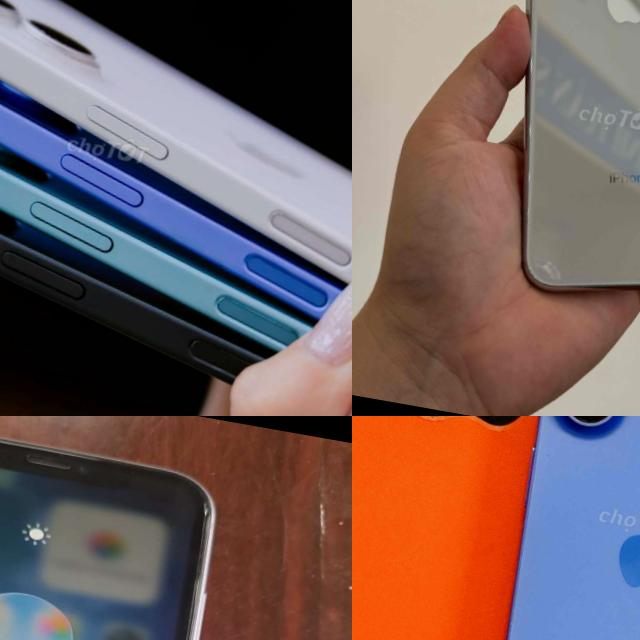physical_damage: (528, 251, 572, 290)
